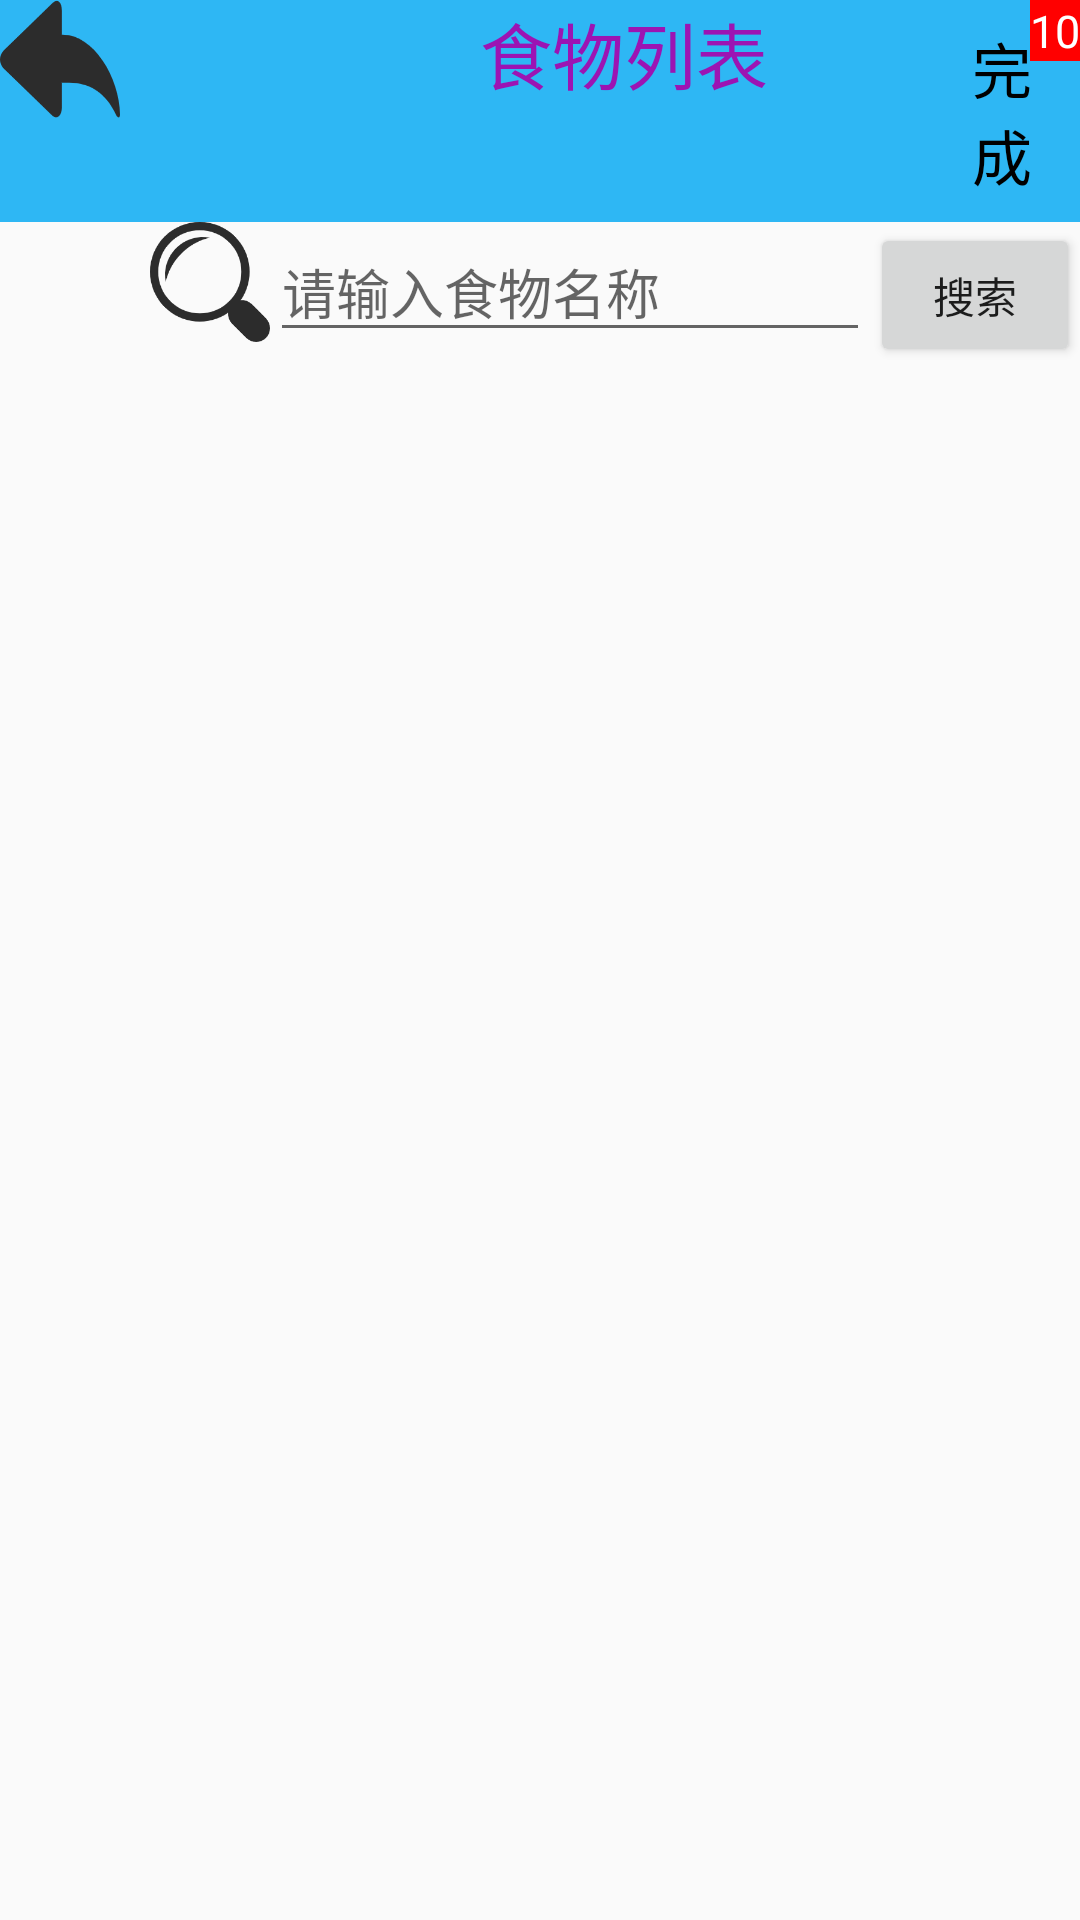

Icons on this 1080 x 1920 Android screen, each with its box as (x1, y1, x2, y2):
showfood back: (0, 1, 120, 118)
showfood search: (150, 222, 270, 342)
